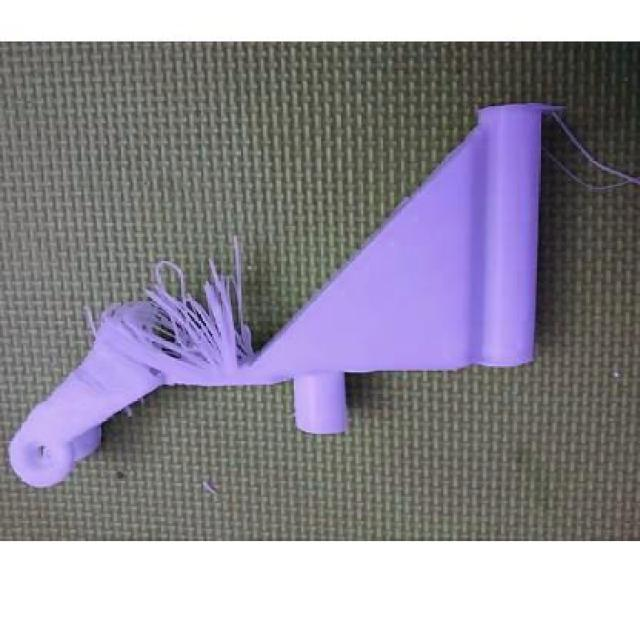Spaghetti: (80, 233, 265, 376)
